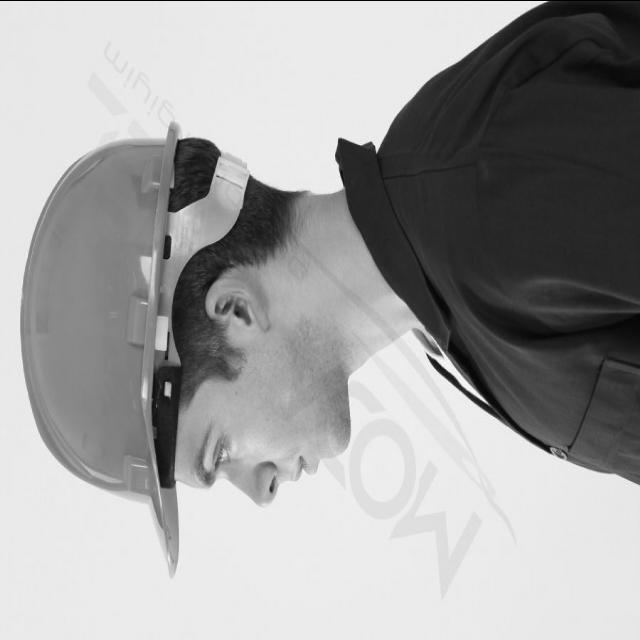safety_helmet: (20, 122, 248, 575)
